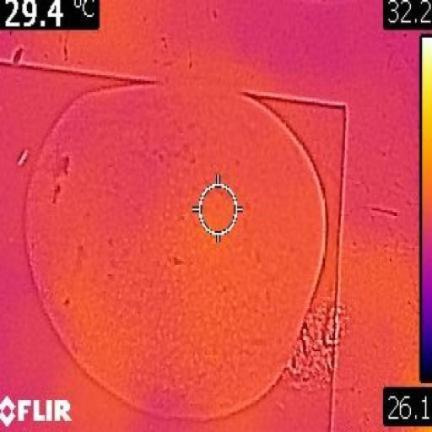mango: (27, 88, 325, 415)
